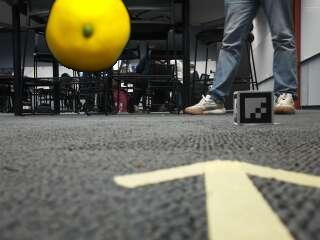lemon: (44, 1, 127, 73)
